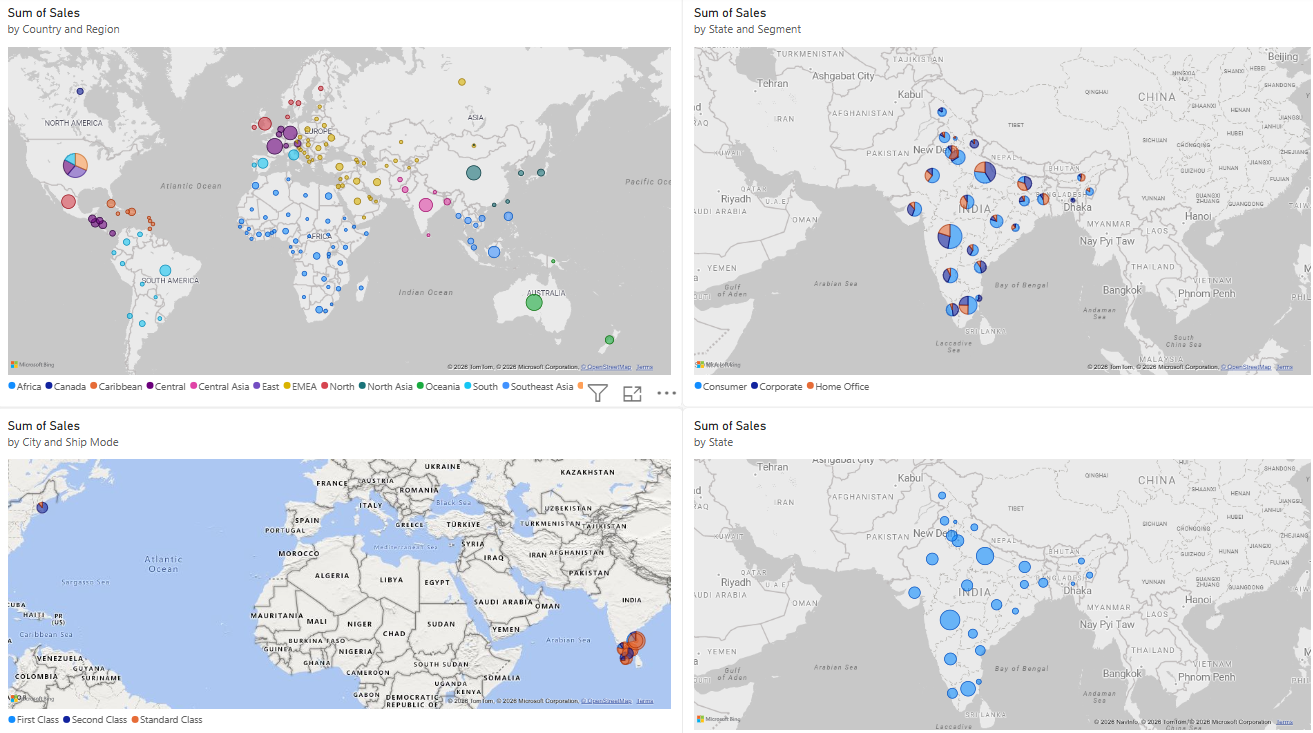

The dashboard page shown, as its layout file describes it:
{"tool":"powerbi","page":{"name":"Page 2","canvas":[1920,1080],"ordinal":1},"visuals":[{"type":"map","fields":{"Category":["Global_Superstore2.Country"],"Series":["Global_Superstore2.Region"],"Size":["Sum(Global_Superstore2.Sales)"]},"box":[0,0,993.5,597.2],"z":0},{"type":"map","fields":{"Category":["Global_Superstore2.State"],"Series":["Global_Superstore2.Segment"],"Size":["Sum(Global_Superstore2.Sales)"]},"box":[993.5,0,926.5,597.2],"z":1},{"type":"map","fields":{"Category":["Global_Superstore2.State"],"Size":["Sum(Global_Superstore2.Sales)"]},"box":[993.5,597.2,926.5,483.2],"z":2},{"type":"map","fields":{"Category":["Global_Superstore2.City"],"Series":["Global_Superstore2.Ship Mode"],"Size":["Sum(Global_Superstore2.Sales)"]},"box":[0,597,994,483],"z":3}]}

Visuals, with their boxes in screenshot pixels (x1, y1, x2, y2), scaled from the page's 1920x1080 canvas onto the 1313x733 screenshot:
map - Global_Superstore2.Country x Global_Superstore2.Region: {"x1": 0, "y1": 0, "x2": 679, "y2": 405}
map - Global_Superstore2.State x Global_Superstore2.Segment: {"x1": 679, "y1": 0, "x2": 1312, "y2": 405}
map - Global_Superstore2.State x Sum(Global_Superstore2.Sales): {"x1": 679, "y1": 405, "x2": 1312, "y2": 732}
map - Global_Superstore2.City x Global_Superstore2.Ship Mode: {"x1": 0, "y1": 405, "x2": 680, "y2": 732}
